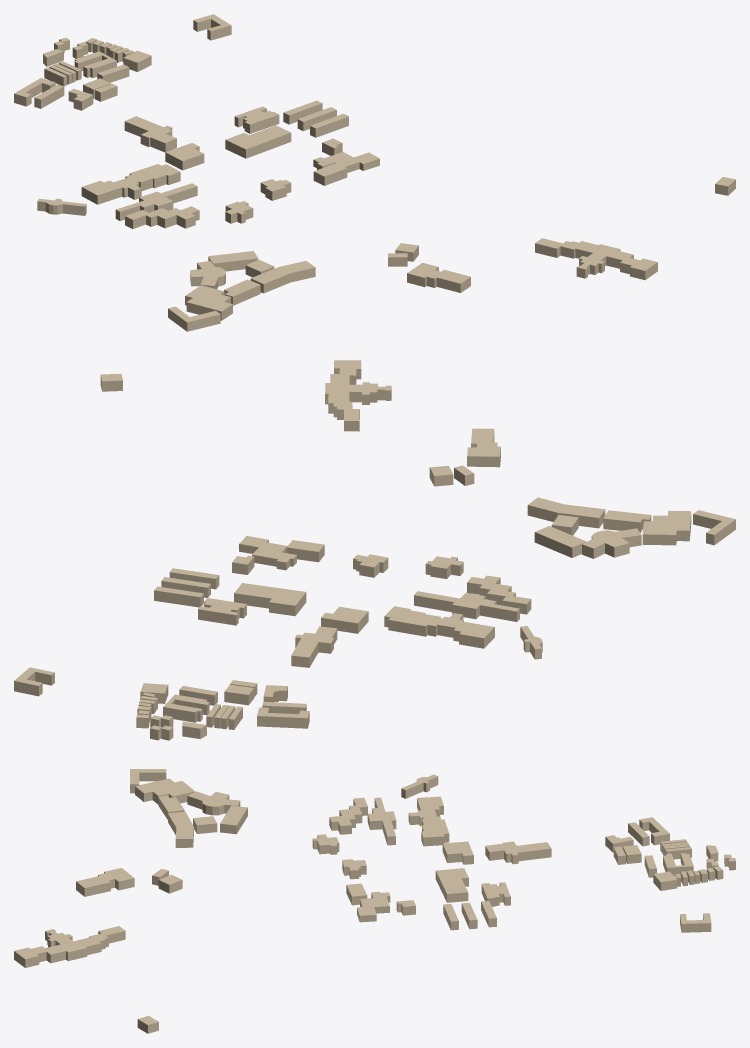
File: -6_8-estimated-coarse.glb
The picture shows the model from 3 angles, top to bottom: view 1: azimuth 30°, elevation 25°; view 2: azimuth 150°, elevation 25°; view 3: azimuth 270°, elevation 25°; orthographic projection. The views are drawn at different scales.
Size of the model in its own units: 753 by 12 by 897.
